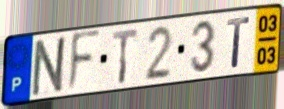2: (144, 24, 175, 82)
3: (189, 18, 218, 76)
F: (65, 28, 102, 97)
N: (30, 33, 71, 99)
T: (111, 27, 140, 86), (225, 15, 252, 70)
